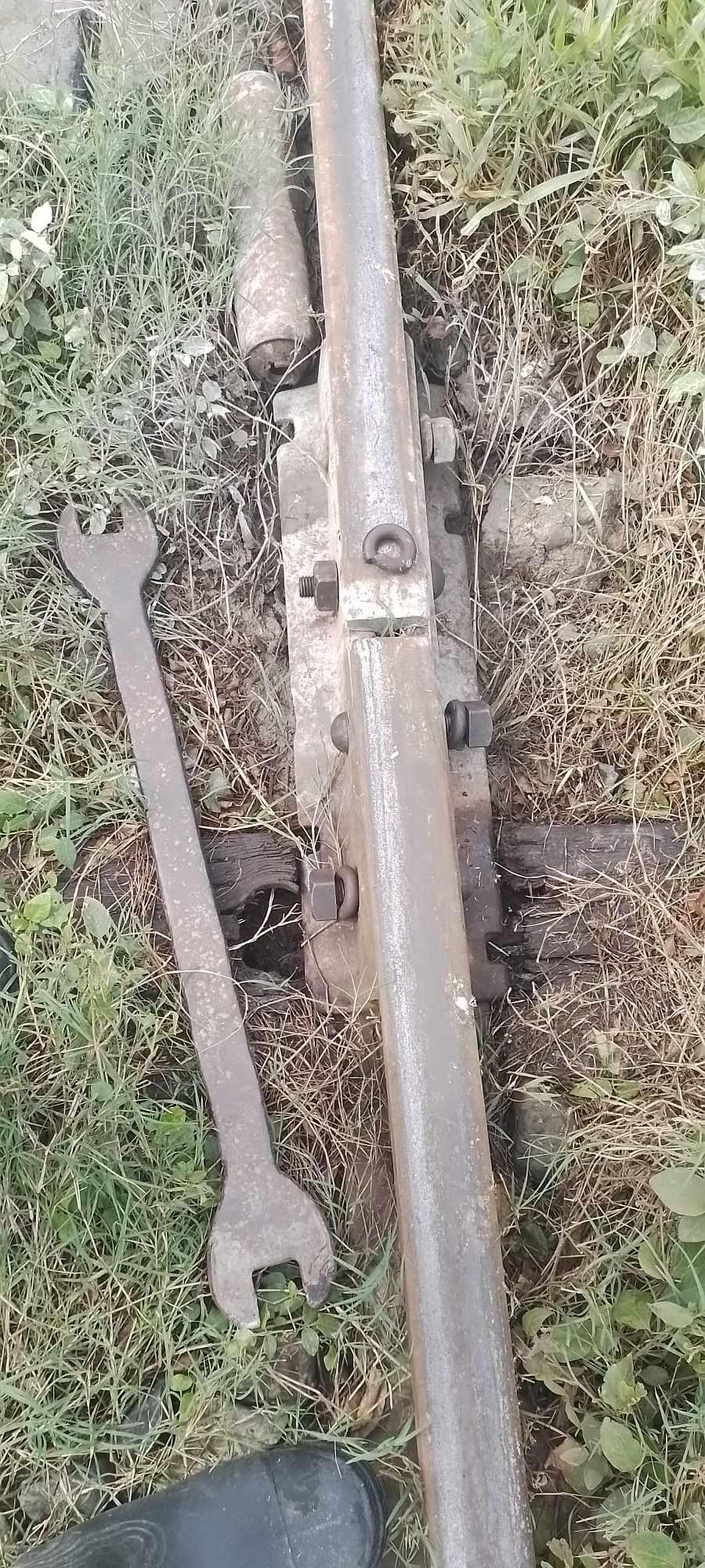railway-gap: (325, 558, 463, 704)
